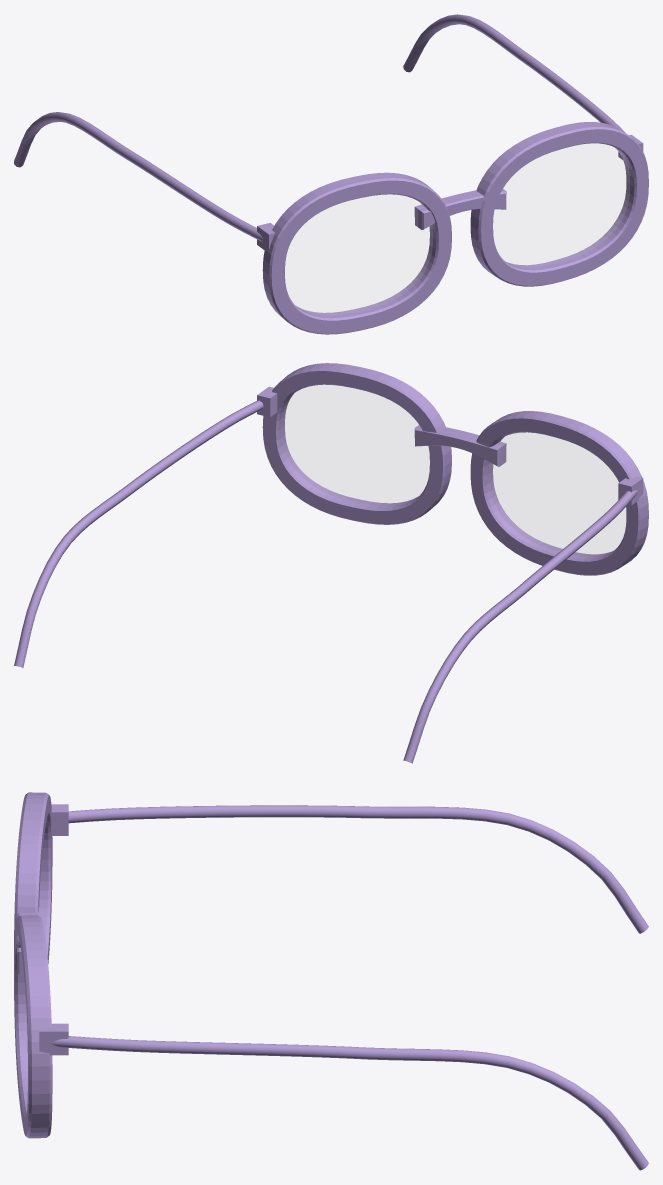
Rendered from NY-K03_Moon_Lilac.glb.
The picture shows the model from 3 angles, top to bottom: view 1: azimuth 30°, elevation 25°; view 2: azimuth 150°, elevation 25°; view 3: azimuth 270°, elevation 25°; orthographic projection. The views are drawn at different scales.
Visible parts, largest first — view 1: Moon_Lilac_Acetate, Moon_Lilac_Lenses; view 2: Moon_Lilac_Acetate, Moon_Lilac_Lenses; view 3: Moon_Lilac_Acetate.
Part boxes in pixels (<box>): Moon_Lilac_Acetate: <box>14,14,648,334</box>; Moon_Lilac_Lenses: <box>285,144,629,314</box>; Moon_Lilac_Acetate: <box>14,363,648,763</box>; Moon_Lilac_Lenses: <box>282,385,625,555</box>; Moon_Lilac_Acetate: <box>14,792,648,1170</box>.
Bounding box in the file's own units: 0.1148 × 0.0399 × 0.1241.
